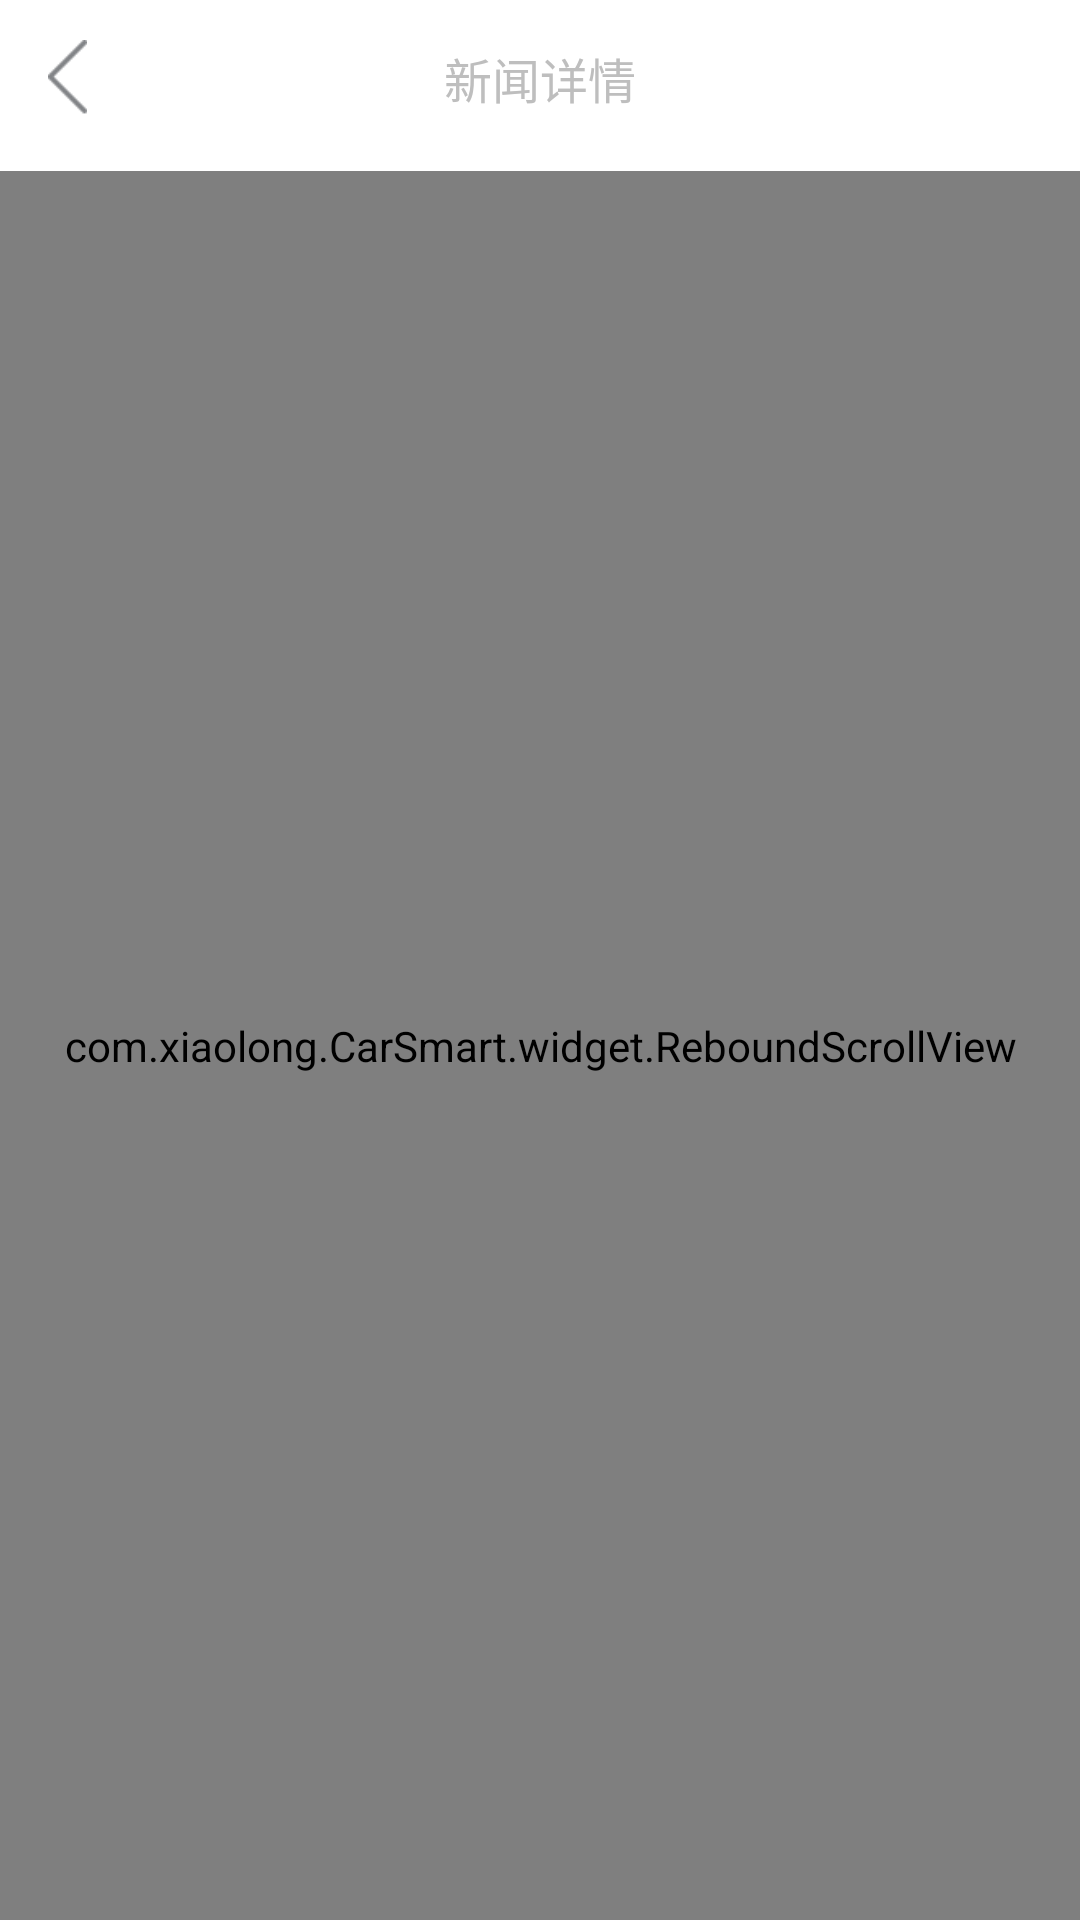

Icon bounding boxes for this 1080x1920 phone screenshot, format (x1, y1, x2, y2):
back: (48, 40, 87, 114)
